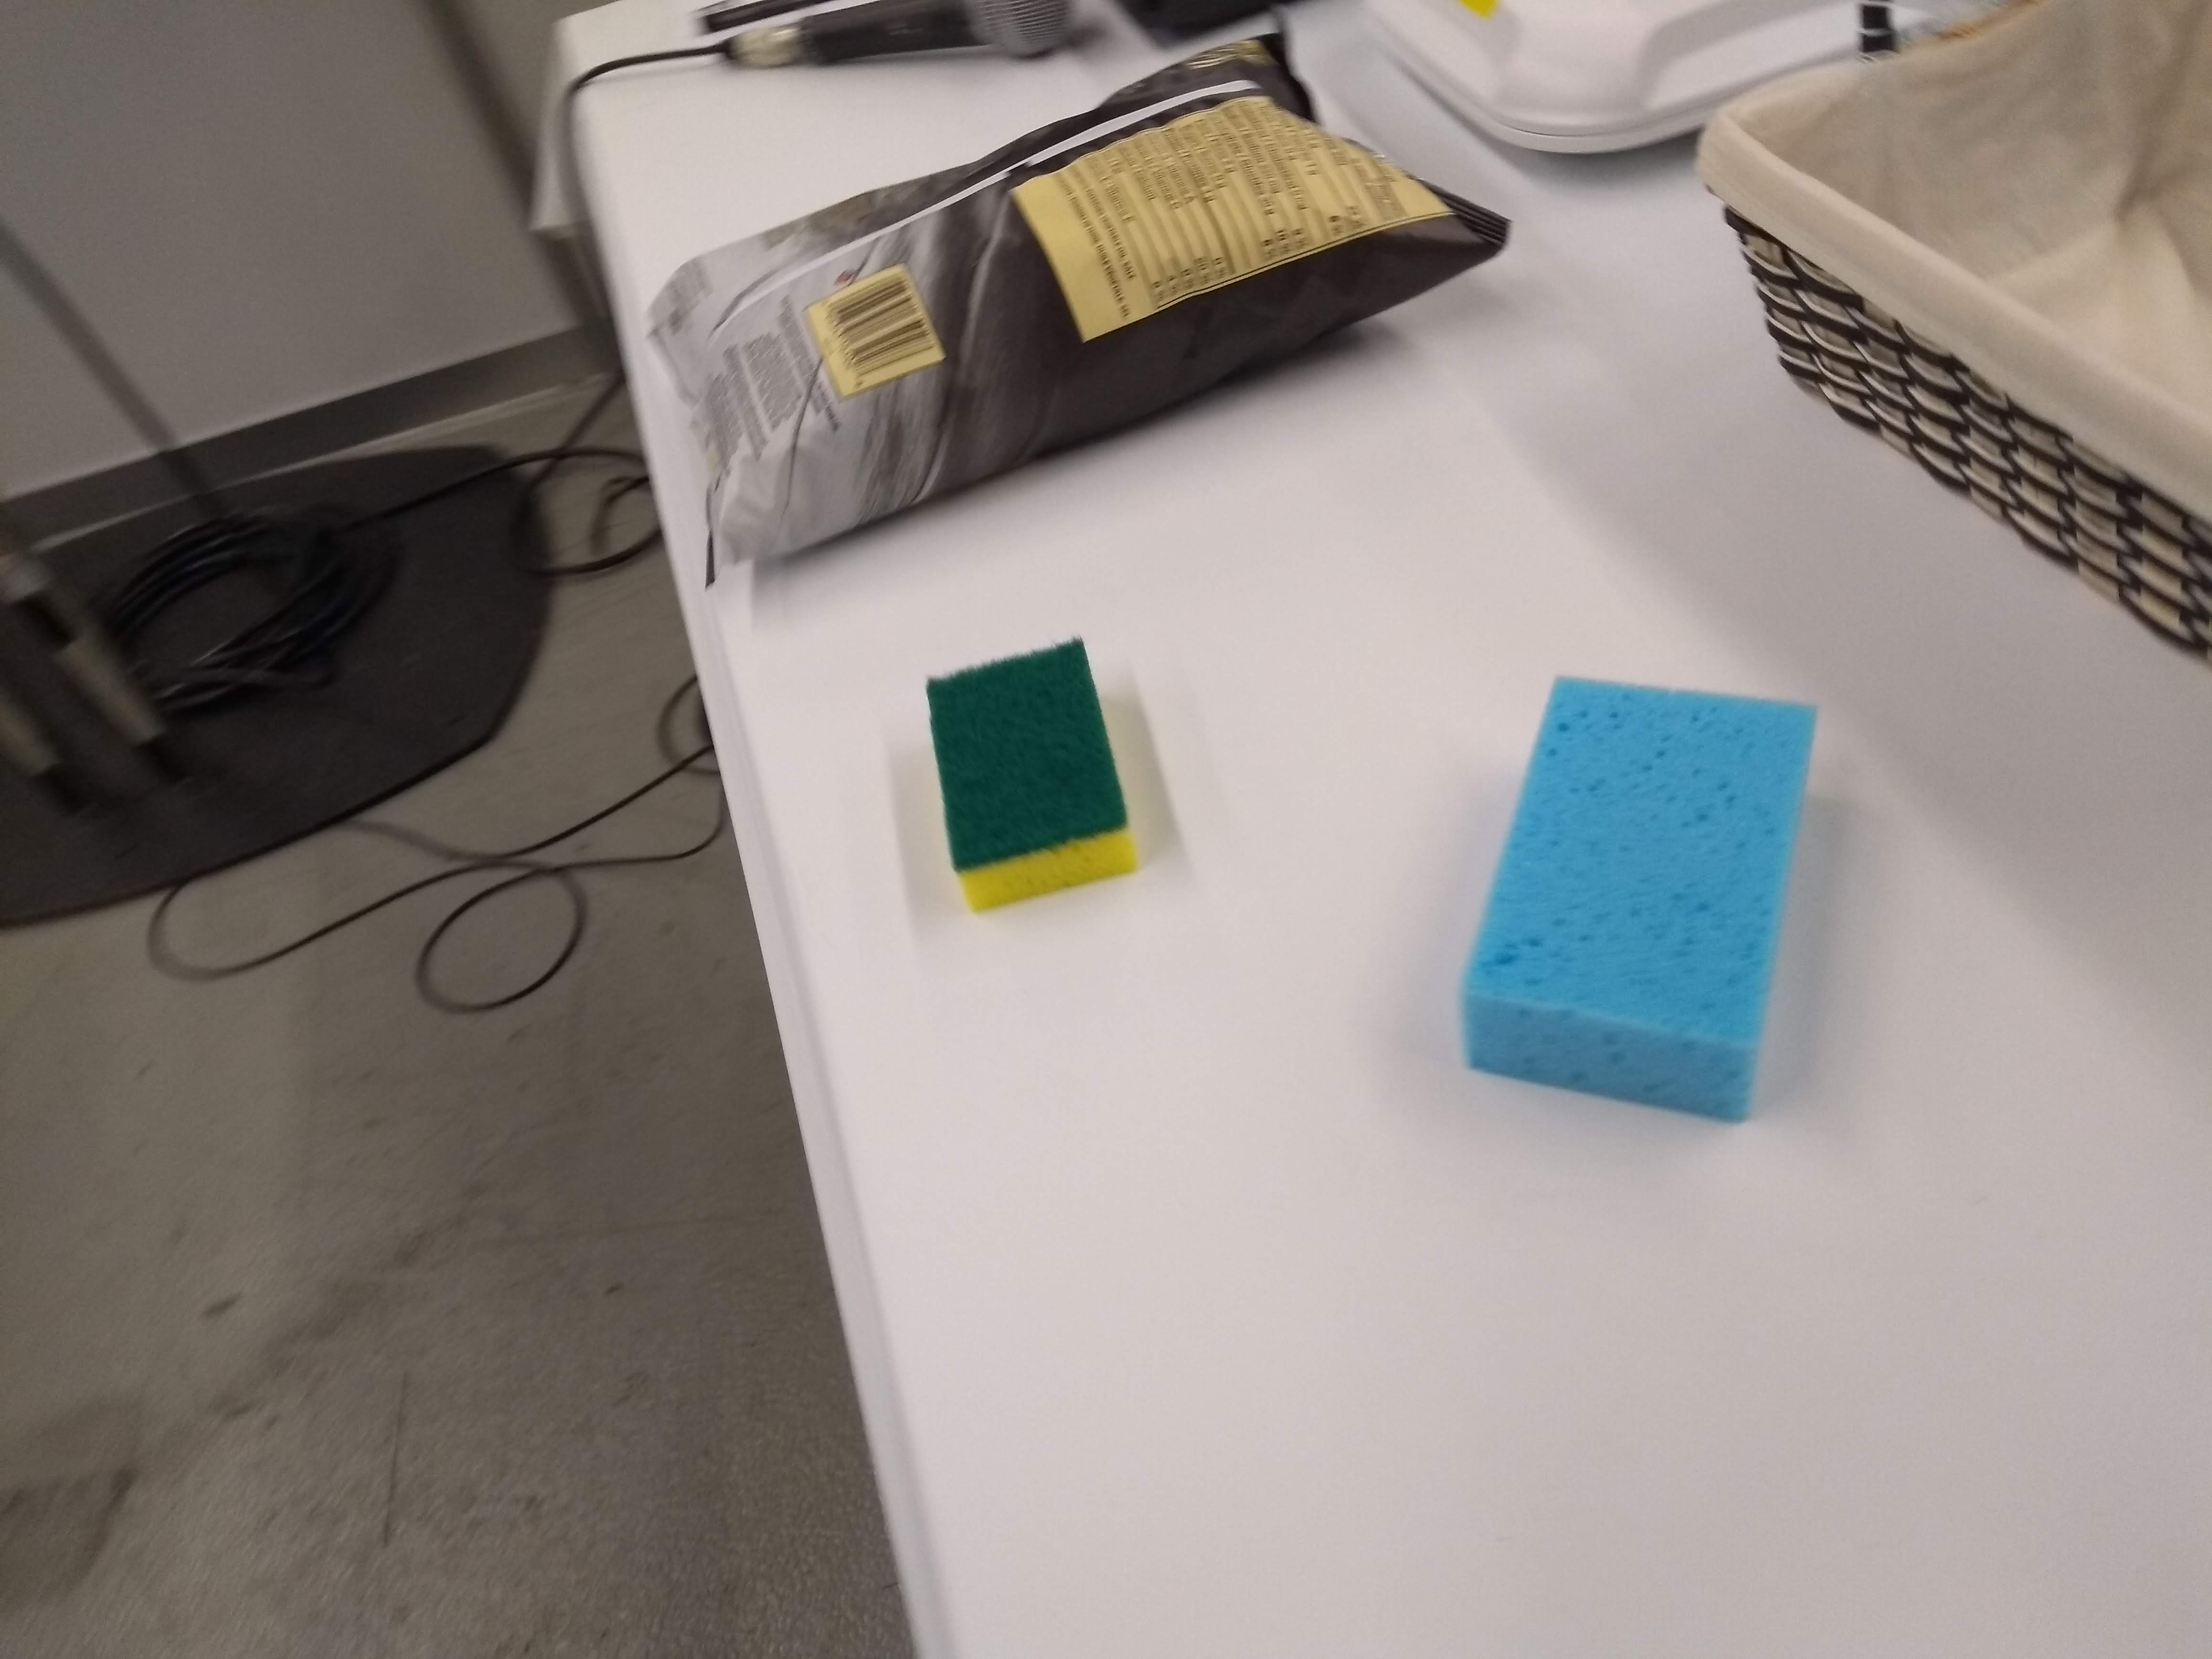potato_chips: (637, 3, 1521, 587)
scrubby: (907, 631, 1150, 920)
sponge_opl: (1433, 664, 1850, 1133)
